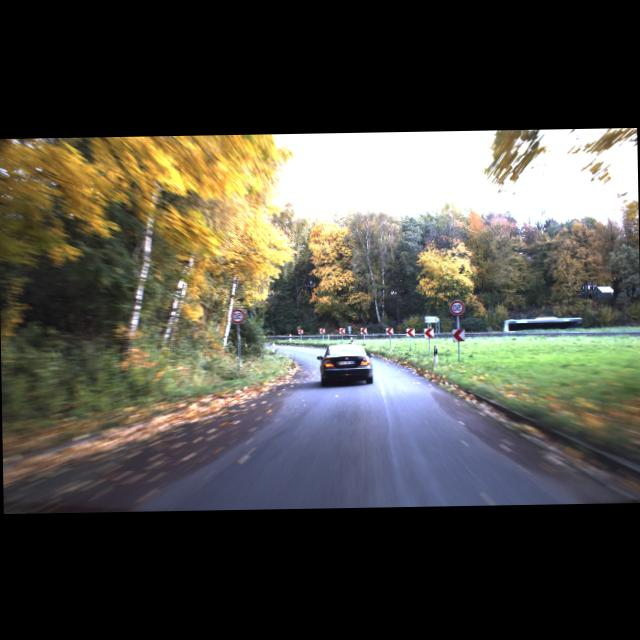prohibitory: (450, 300, 464, 314), (232, 308, 244, 322)
